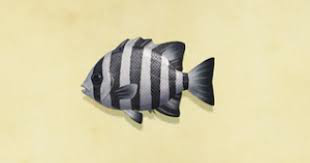azi: (73, 36, 216, 127)
